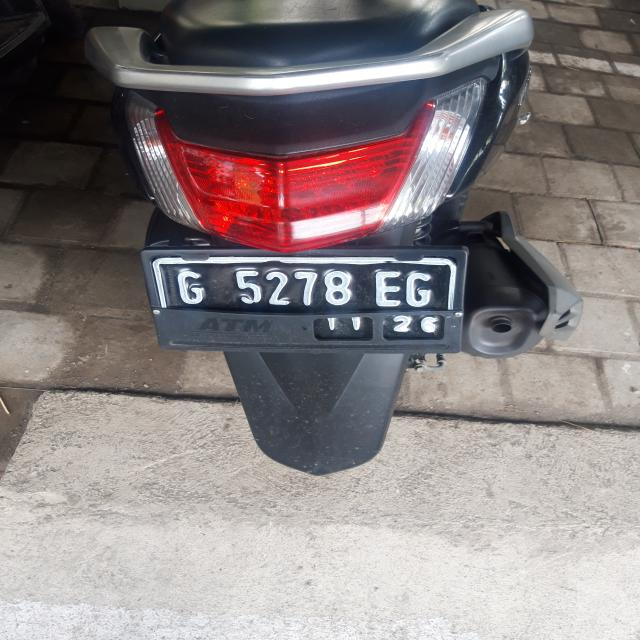plate: (146, 252, 467, 353)
